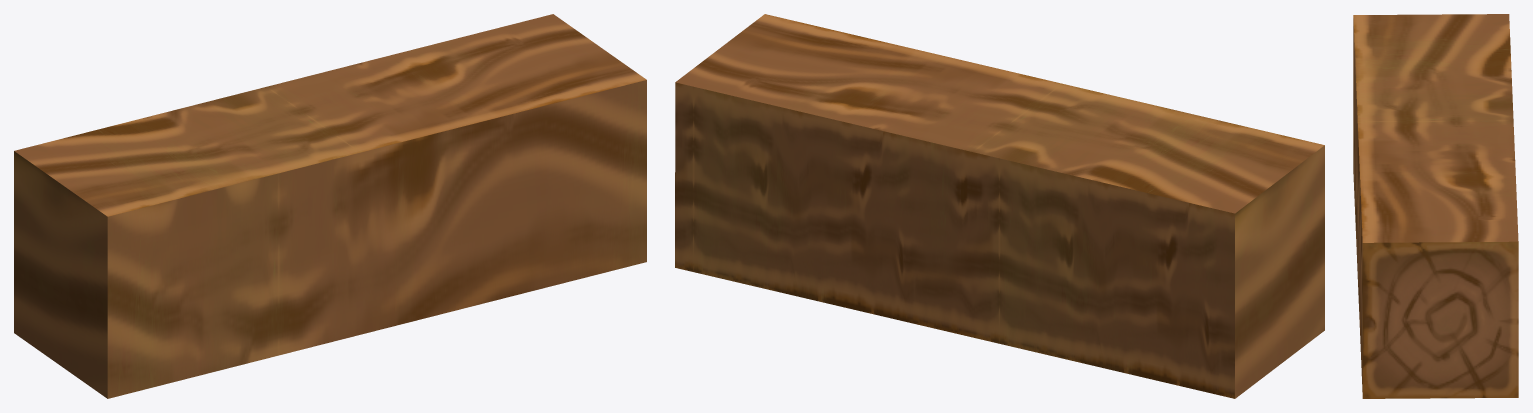
3 views of the same model, side by side, from view 1: azimuth 30°, elevation 25°; view 2: azimuth 150°, elevation 25°; view 3: azimuth 270°, elevation 25° (orthographic). The views are drawn at different scales.
Visible parts, largest first — view 1: Cube.1459; view 2: Cube.1459; view 3: Cube.1459.
Part boxes in pixels (<box>): Cube.1459: <box>14,14,646,398</box>; Cube.1459: <box>675,14,1324,398</box>; Cube.1459: <box>1353,14,1518,398</box>.
Size of the model in its own units: 241 by 76.59 by 73.49.
Materials: 1 (1 with a texture image).
